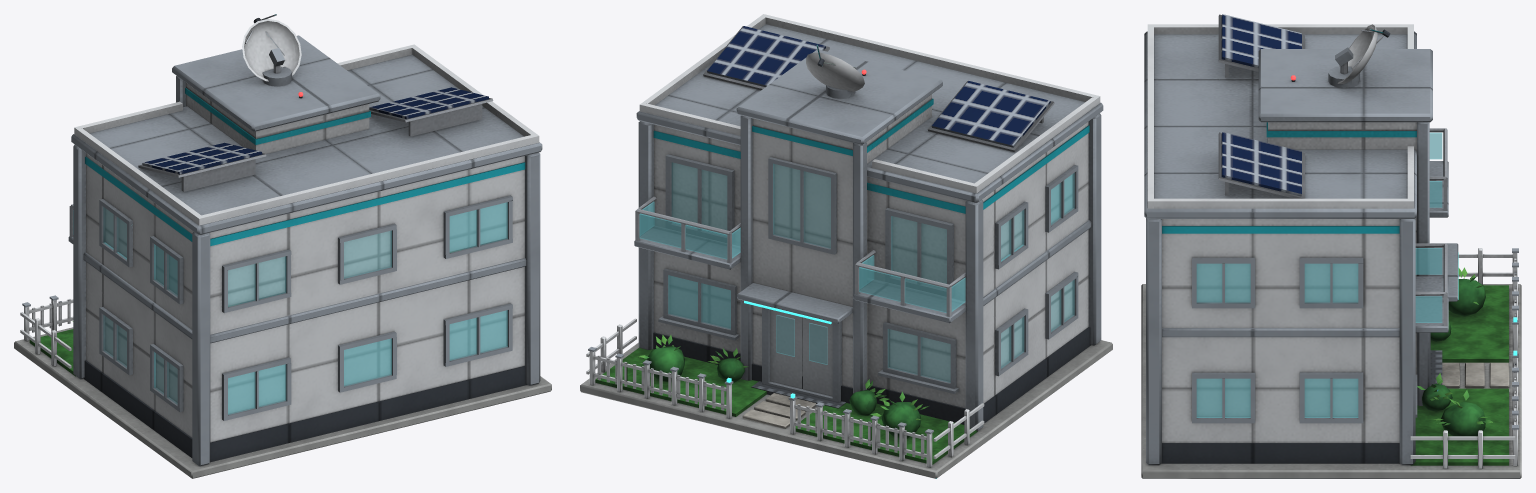
Rendered from casa_grande.fbx.
3 views of the same model, side by side, from view 1: azimuth 30°, elevation 25°; view 2: azimuth 150°, elevation 25°; view 3: azimuth 270°, elevation 25° (orthographic). The views are drawn at different scales.
Parts seen in each view (by area): view 1: casa_grande, casa_grande_cristal; view 2: casa_grande, casa_grande_cristal, casa_grande_puerta_izq, casa_grande_puerta_der; view 3: casa_grande, casa_grande_cristal.
Part boxes in pixels (bbox=[...]): casa_grande: bbox=[14, 14, 551, 478]; casa_grande_cristal: bbox=[73, 202, 507, 414]; casa_grande: bbox=[580, 14, 1112, 478]; casa_grande_cristal: bbox=[639, 162, 1074, 382]; casa_grande_puerta_izq: bbox=[770, 309, 802, 388]; casa_grande_puerta_der: bbox=[803, 317, 832, 396]; casa_grande: bbox=[1141, 14, 1521, 478]; casa_grande_cristal: bbox=[1196, 132, 1442, 417].
Size of the model in its own units: 14 by 12.62 by 12.
3 materials, 3 textured.
